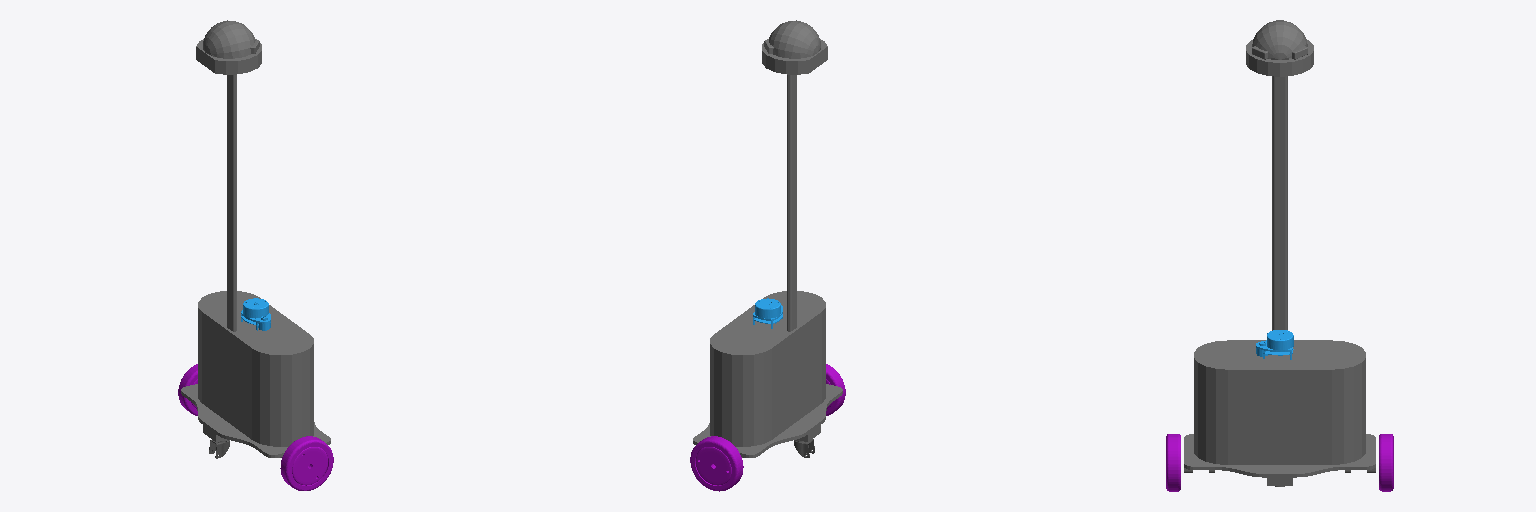
robot.urdf — robot_description:
<?xml version="1.0" encoding="utf-8"?>
<!-- This URDF was automatically created by SolidWorks to URDF Exporter! Originally created by [author] ([email redacted]) 
     Commit Version: 1.6.0-1-g15f4949  Build Version: 1.6.7594.29634
     For more information, please see http://wiki.ros.org/sw_urdf_exporter -->
<robot
  name="robot_description">
  <link
    name="base_link">
    <inertial>
      <origin
        xyz="-0.0023189 0.0073427 0.1843"
        rpy="0 0 0" />
      <mass
        value="15.896" />
      <inertia
        ixx="0.65725"
        ixy="-3.6456E-08"
        ixz="0.040641"
        iyy="0.58335"
        iyz="-2.2784E-12"
        izz="0.1582" />
    </inertial>
    <visual>
      <origin
        xyz="0 0 0"
        rpy="0 0 0" />
      <geometry>
        <mesh
          filename="package://robot_description/meshes/base_link.STL" />
      </geometry>
      <material
        name="">
        <color
          rgba="0.5 0.5 0.5 1" />
      </material>
    </visual>
    <collision>
      <origin
        xyz="0 0 0"
        rpy="0 0 0" />
      <geometry>
        <mesh
          filename="package://robot_description/meshes/base_link.STL" />
      </geometry>
    </collision>
  </link>
  <link
    name="lidar_link">
    <inertial>
      <origin
        xyz="-9.1926E-05 -0.0067665 -0.0073819"
        rpy="0 0 0" />
      <mass
        value="1.3308" />
      <inertia
        ixx="0.0009607"
        ixy="8.0198E-07"
        ixz="-3.0916E-06"
        iyy="0.00061492"
        iyz="-0.00015824"
        izz="0.0010982" />
    </inertial>
    <visual>
      <origin
        xyz="0 0 0"
        rpy="0 0 0" />
      <geometry>
        <mesh
          filename="package://robot_description/meshes/lidar_link.STL" />
      </geometry>
      <material
        name="">
        <color
          rgba="0.2 0.7 1 1" />
      </material>
    </visual>
    <collision>
      <origin
        xyz="0 0 0"
        rpy="0 0 0" />
      <geometry>
        <mesh
          filename="package://robot_description/meshes/lidar_link.STL" />
      </geometry>
    </collision>
  </link>
  <joint
    name="lidar_joint"
    type="fixed">
    <origin
      xyz="0 0.000420393431200835 0.32565"
      rpy="0 0 0" />
    <parent
      link="base_link" />
    <child
      link="lidar_link" />
    <axis
      xyz="0 0 0" />
  </joint>
  <link
    name="left_wheel_link">
    <inertial>
      <origin
        xyz="8.211E-08 -0.017522 -4.1793E-07"
        rpy="0 0 0" />
      <mass
        value="0.583" />
      <inertia
        ixx="0.00092026"
        ixy="2.1255E-10"
        ixz="8.2654E-07"
        iyy="0.0017198"
        iyz="-1.099E-09"
        izz="0.00091447" />
    </inertial>
    <visual>
      <origin
        xyz="0 0 0"
        rpy="0 0 0" />
      <geometry>
        <mesh
          filename="package://robot_description/meshes/left_wheel_link.STL" />
      </geometry>
      <material
        name="">
        <color
          rgba="0.7 0.1 0.8 1" />
      </material>
    </visual>
    <collision>
      <origin
        xyz="0 0 0"
        rpy="0 0 0" />
      <geometry>
        <mesh
          filename="package://robot_description/meshes/left_wheel_link.STL" />
      </geometry>
    </collision>
  </link>
  <joint
    name="left_wheel_joint"
    type="continuous">
    <origin
      xyz="0 0.29485 -0.025"
      rpy="0 0 0" />
    <parent
      link="base_link" />
    <child
      link="left_wheel_link" />
    <axis
      xyz="0 1 0" />
    <limit
      lower="0"
      upper="0"
      effort="0"
      velocity="0" />
  </joint>
  <link
    name="right_wheel_link">
    <inertial>
      <origin
        xyz="3.8174E-07 0.017522 1.8833E-07"
        rpy="0 0 0" />
      <mass
        value="0.583" />
      <inertia
        ixx="0.00091579"
        ixy="-1.3235E-09"
        ixz="-2.5693E-06"
        iyy="0.0017198"
        iyz="-7.3676E-10"
        izz="0.00091893" />
    </inertial>
    <visual>
      <origin
        xyz="0 0 0"
        rpy="0 0 0" />
      <geometry>
        <mesh
          filename="package://robot_description/meshes/right_wheel_link.STL" />
      </geometry>
      <material
        name="">
        <color
          rgba="0.7 0.1 0.8 1" />
      </material>
    </visual>
    <collision>
      <origin
        xyz="0 0 0"
        rpy="0 0 0" />
      <geometry>
        <mesh
          filename="package://robot_description/meshes/right_wheel_link.STL" />
      </geometry>
    </collision>
  </link>
  <joint
    name="right_wheel_joint"
    type="continuous">
    <origin
      xyz="0 -0.29485 -0.025"
      rpy="0 0 0" />
    <parent
      link="base_link" />
    <child
      link="right_wheel_link" />
    <axis
      xyz="0 1 0" />
    <limit
      lower="0"
      upper="0"
      effort="0"
      velocity="0" />
  </joint>
  <link
    name="front_castor_body_link">
    <inertial>
      <origin
        xyz="0.0055133 0.00033058 -0.0066169"
        rpy="0 0 0" />
      <mass
        value="0.011291" />
      <inertia
        ixx="4.0603E-06"
        ixy="1.367E-08"
        ixz="8.6782E-07"
        iyy="3.8335E-06"
        iyz="5.2075E-08"
        izz="4.4634E-06" />
    </inertial>
    <visual>
      <origin
        xyz="0 0 0"
        rpy="0 0 0" />
      <geometry>
        <mesh
          filename="package://robot_description/meshes/front_castor_body_link.STL" />
      </geometry>
      <material
        name="">
        <color
          rgba="0.4 0.4 0.4 1" />
      </material>
    </visual>
    <collision>
      <origin
        xyz="0 0 0"
        rpy="0 0 0" />
      <geometry>
        <mesh
          filename="package://robot_description/meshes/front_castor_body_link.STL" />
      </geometry>
    </collision>
  </link>
  <joint
    name="front_castor_body_joint"
    type="continuous">
    <origin
      xyz="0.105 0 -0.0415"
      rpy="0 0 0" />
    <parent
      link="base_link" />
    <child
      link="front_castor_body_link" />
    <axis
      xyz="0 0 1" />
    <limit
      lower="0"
      upper="0"
      effort="0"
      velocity="0" />
  </joint>
  <link
    name="front_castor_wheel_link">
    <inertial>
      <origin
        xyz="0.001327 -0.02196 3.518E-06"
        rpy="0 0 0" />
      <mass
        value="0.047259" />
      <inertia
        ixx="9.5221E-06"
        ixy="-2.7895E-07"
        ixz="2.5434E-09"
        iyy="1.4162E-05"
        iyz="1.5234E-10"
        izz="9.4977E-06" />
    </inertial>
    <visual>
      <origin
        xyz="0 0 0"
        rpy="0 0 0" />
      <geometry>
        <mesh
          filename="package://robot_description/meshes/front_castor_wheel_link.STL" />
      </geometry>
      <material
        name="">
        <color
          rgba="0.6 0.6 0.6 1" />
      </material>
    </visual>
    <collision>
      <origin
        xyz="0 0 0"
        rpy="0 0 0" />
      <geometry>
        <mesh
          filename="package://robot_description/meshes/front_castor_wheel_link.STL" />
      </geometry>
    </collision>
  </link>
  <joint
    name="front_castor_wheel_joint"
    type="continuous">
    <origin
      xyz="0.021643 0.023336 -0.033"
      rpy="0 0 0" />
    <parent
      link="front_castor_body_link" />
    <child
      link="front_castor_wheel_link" />
    <axis
      xyz="0 1 0" />
    <limit
      lower="0"
      upper="0"
      effort="0"
      velocity="0" />
  </joint>
  <link
    name="back_castor_body_link">
    <inertial>
      <origin
        xyz="-0.0055142 -0.00031498 -0.0066169"
        rpy="0 0 0" />
      <mass
        value="0.011291" />
      <inertia
        ixx="4.0603E-06"
        ixy="1.3028E-08"
        ixz="-8.6797E-07"
        iyy="3.8334E-06"
        iyz="-4.9618E-08"
        izz="4.4634E-06" />
    </inertial>
    <visual>
      <origin
        xyz="0 0 0"
        rpy="0 0 0" />
      <geometry>
        <mesh
          filename="package://robot_description/meshes/back_castor_body_link.STL" />
      </geometry>
      <material
        name="">
        <color
          rgba="0.4 0.4 0.4 1" />
      </material>
    </visual>
    <collision>
      <origin
        xyz="0 0 0"
        rpy="0 0 0" />
      <geometry>
        <mesh
          filename="package://robot_description/meshes/back_castor_body_link.STL" />
      </geometry>
    </collision>
  </link>
  <joint
    name="back_castor_body_joint"
    type="continuous">
    <origin
      xyz="-0.105 0 -0.0415"
      rpy="0 0 0" />
    <parent
      link="base_link" />
    <child
      link="back_castor_body_link" />
    <axis
      xyz="0 0 1" />
    <limit
      lower="0"
      upper="0"
      effort="0"
      velocity="0" />
  </joint>
  <link
    name="back_castor_wheel_link">
    <inertial>
      <origin
        xyz="0.001265 -0.021964 -2.6984E-06"
        rpy="0 0 0" />
      <mass
        value="0.047259" />
      <inertia
        ixx="9.5208E-06"
        ixy="-2.6579E-07"
        ixz="-1.9877E-09"
        iyy="1.4164E-05"
        iyz="-1.1341E-10"
        izz="9.4974E-06" />
    </inertial>
    <visual>
      <origin
        xyz="0 0 0"
        rpy="0 0 0" />
      <geometry>
        <mesh
          filename="package://robot_description/meshes/back_castor_wheel_link.STL" />
      </geometry>
      <material
        name="">
        <color
          rgba="0.6 0.6 0.6 1" />
      </material>
    </visual>
    <collision>
      <origin
        xyz="0 0 0"
        rpy="0 0 0" />
      <geometry>
        <mesh
          filename="package://robot_description/meshes/back_castor_wheel_link.STL" />
      </geometry>
    </collision>
  </link>
  <joint
    name="back_castor_wheel_joint"
    type="continuous">
    <origin
      xyz="-0.024216 0.020654 -0.033"
      rpy="0 0 0" />
    <parent
      link="back_castor_body_link" />
    <child
      link="back_castor_wheel_link" />
    <axis
      xyz="0 1 0" />
    <limit
      lower="0"
      upper="0"
      effort="0"
      velocity="0" />
  </joint>
</robot>

--- What the picture shows (computed from the rendered views, not written in the file) ---
Views: 3 orthographic renders of the robot side by side, from view 1: azimuth 30°, elevation 25°; view 2: azimuth 150°, elevation 25°; view 3: azimuth 270°, elevation 25°.
Robot: robot_description — 8 links, 7 joints (6 continuous, 1 fixed); root link base_link; default pose: every joint at zero.
Links seen in each view (by area): view 1: base_link, right_wheel_link, lidar_link; view 2: base_link, left_wheel_link, lidar_link; view 3: base_link, right_wheel_link, left_wheel_link, lidar_link.
Boxes of the visible links, x1,y1,x2,y2 form: base_link: [181, 20, 330, 457]; right_wheel_link: [280, 436, 333, 490]; lidar_link: [241, 298, 270, 330]; base_link: [693, 20, 842, 457]; left_wheel_link: [690, 436, 743, 491]; lidar_link: [753, 298, 782, 328]; base_link: [1184, 20, 1375, 486]; right_wheel_link: [1166, 434, 1180, 491]; left_wheel_link: [1379, 434, 1393, 491]; lidar_link: [1256, 330, 1293, 359].
Bounding box of the posed robot: 0.3025 × 0.5897 × 1.29 m (x, y, z).
5 mesh visuals loaded from 8 distinct referenced files (5 binary STL); not drawn: 3 (reference not matched to a file when rendering).